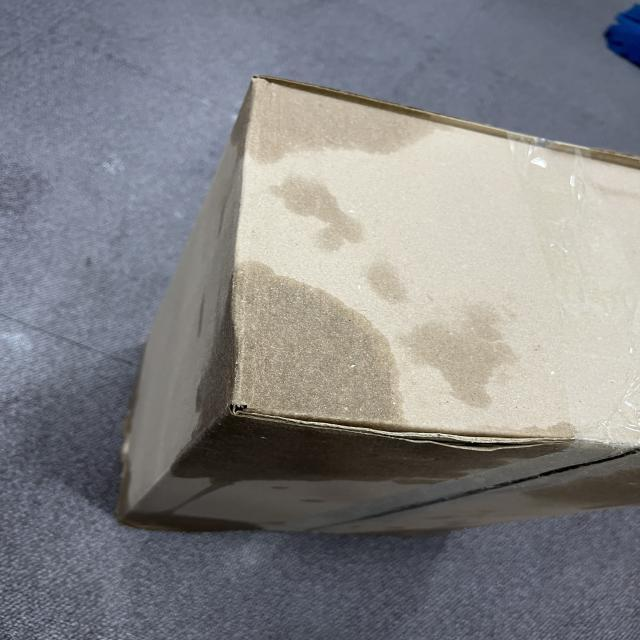wet: (199, 256, 456, 479), (227, 64, 465, 181)
